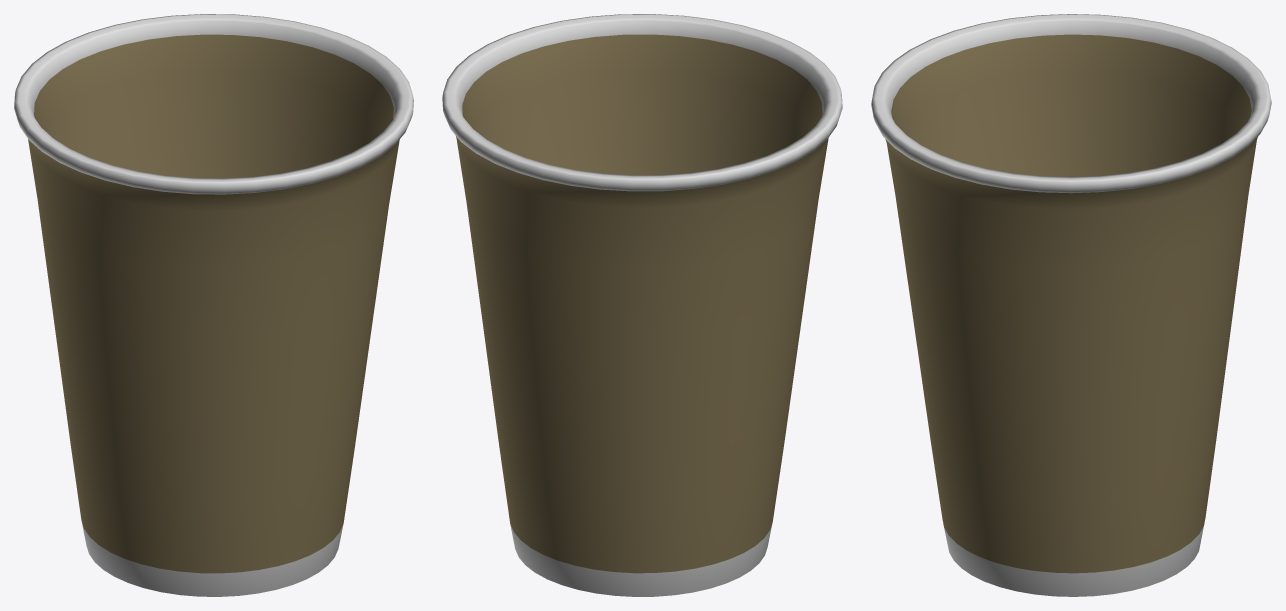
The model's file is Cuppaper.fbx.
3 views of the same model, side by side, from view 1: azimuth 30°, elevation 25°; view 2: azimuth 150°, elevation 25°; view 3: azimuth 270°, elevation 25° (orthographic).
Parts seen in each view (by area): view 1: pCylinder1; view 2: pCylinder1; view 3: pCylinder1.
Boxes of the visible parts, left/top/right/bottom form: pCylinder1: left=14, top=14, right=413, bottom=596; pCylinder1: left=442, top=14, right=842, bottom=596; pCylinder1: left=871, top=14, right=1271, bottom=596.
Size of the model in its own units: 0.3133 by 0.3864 by 0.3133.
